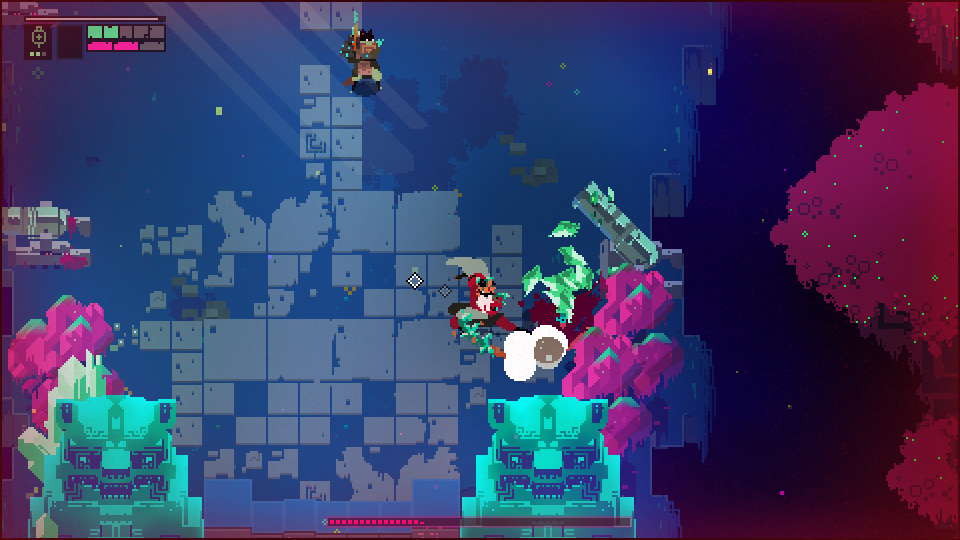hanged_man: (441, 253, 526, 366)
